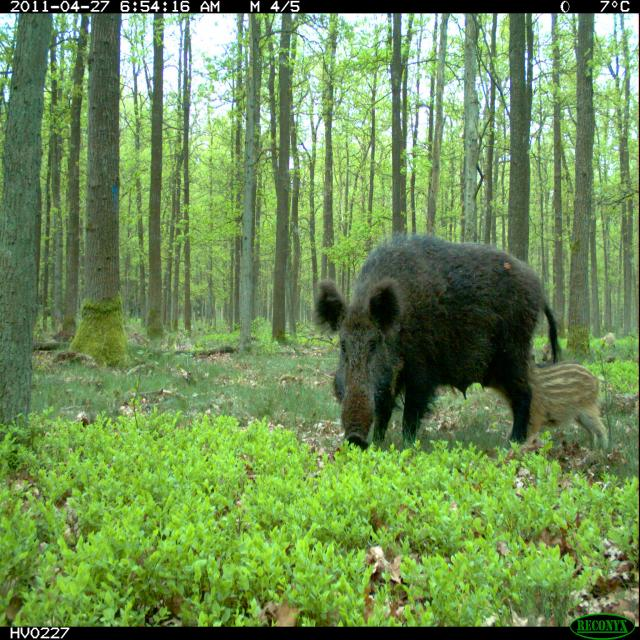boar: (301, 207, 583, 480)
